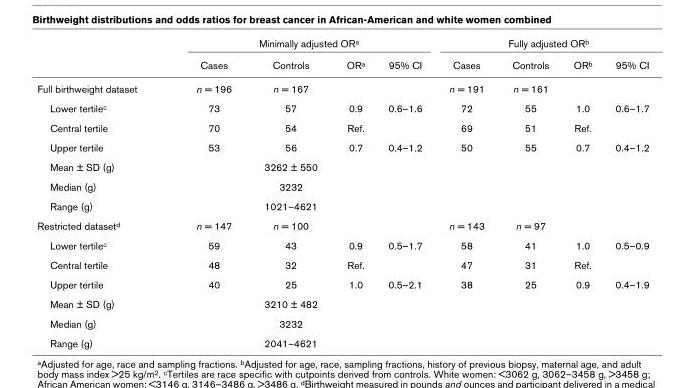table: (36, 36, 648, 348)
table column: (36, 36, 165, 348), (247, 36, 331, 348), (165, 36, 247, 348), (434, 36, 497, 348), (497, 36, 560, 348), (375, 36, 434, 348), (603, 36, 648, 348), (331, 36, 375, 348), (560, 36, 603, 348)
table column header: (36, 36, 648, 76)
table row: (36, 53, 648, 76), (36, 76, 648, 98), (36, 117, 648, 137), (36, 156, 648, 176), (36, 195, 648, 215), (36, 215, 648, 235), (36, 254, 648, 274), (36, 293, 648, 313), (36, 98, 648, 117), (36, 137, 648, 156), (36, 176, 648, 195), (36, 235, 648, 254), (36, 274, 648, 293), (36, 313, 648, 332), (36, 36, 648, 53), (36, 332, 648, 348)
table spanning cell: (165, 36, 434, 53), (434, 36, 648, 53)
